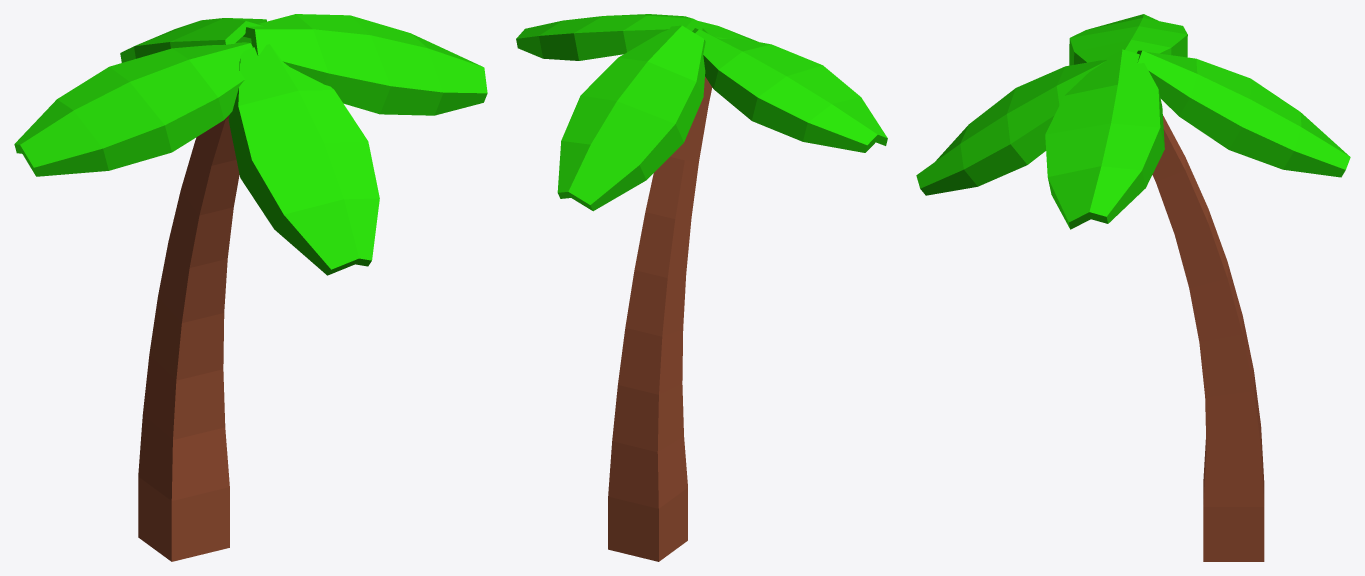
The model's file is tree6.fbx.
3 views of the same model, side by side, from view 1: azimuth 30°, elevation 25°; view 2: azimuth 150°, elevation 25°; view 3: azimuth 270°, elevation 25° (orthographic). The views are drawn at different scales.
Visible parts, largest first — view 1: Cube, Cube_3, Cube_1, Cube_2, Cube_4; view 2: Cube, Cube_4, Cube_1, Cube_2; view 3: Cube, Cube_2, Cube_4, Cube_3, Cube_1.
Part boxes in pixels (x1=…): Cube: x1=138, y1=115, x2=239, y2=561; Cube_3: x1=228, y1=44, x2=379, y2=275; Cube_1: x1=14, y1=42, x2=252, y2=176; Cube_2: x1=243, y1=14, x2=487, y2=115; Cube_4: x1=120, y1=18, x2=266, y2=62; Cube: x1=608, y1=76, x2=712, y2=561; Cube_4: x1=557, y1=25, x2=705, y2=211; Cube_1: x1=695, y1=29, x2=887, y2=152; Cube_2: x1=516, y1=14, x2=710, y2=60; Cube: x1=1152, y1=115, x2=1264, y2=561; Cube_2: x1=1045, y1=49, x2=1164, y2=229; Cube_4: x1=1137, y1=50, x2=1350, y2=177; Cube_3: x1=916, y1=60, x2=1106, y2=195; Cube_1: x1=1069, y1=14, x2=1187, y2=65.
Bounding box in the file's own units: 1497 × 1828 × 1428.
